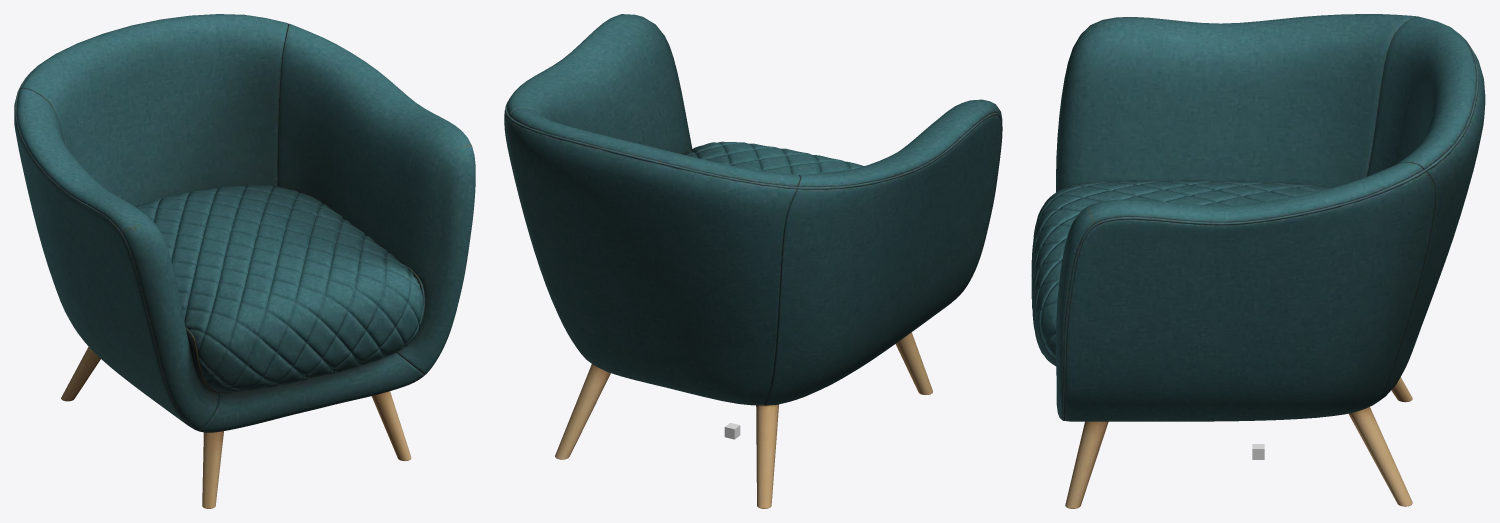
The picture shows the model from 3 angles, left to right: view 1: azimuth 30°, elevation 25°; view 2: azimuth 150°, elevation 25°; view 3: azimuth 270°, elevation 25°; orthographic projection. The views are drawn at different scales.
Visible parts, largest first — view 1: FABRIC, WOOD; view 2: FABRIC, WOOD; view 3: FABRIC, WOOD.
Part boxes in pixels (x1,y1,x2,y2): FABRIC: (14, 14, 475, 432); WOOD: (61, 346, 411, 508); FABRIC: (504, 14, 1002, 405); WOOD: (555, 332, 932, 508); FABRIC: (1031, 14, 1485, 421); WOOD: (1065, 377, 1412, 508).
Size of the model in its own units: 77.83 by 70.35 by 75.61.
Materials: 3 (2 with a texture image).
